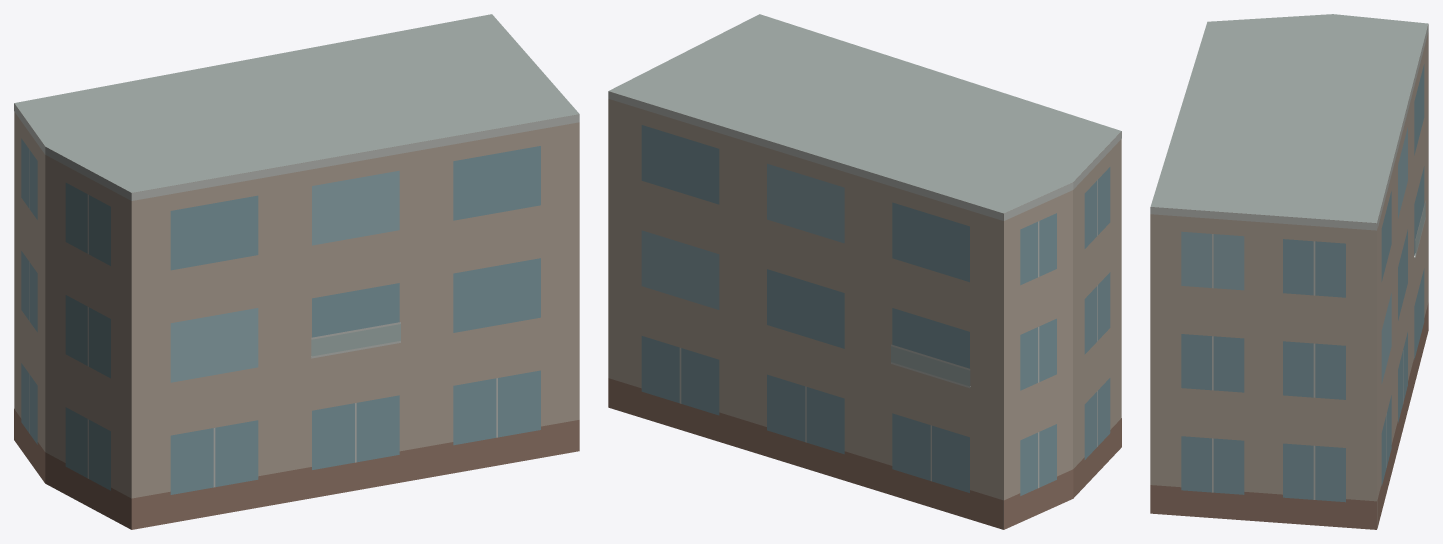
Rendered from survey-upis-32829495.glb.
3 renders of one model, left to right at view 1: azimuth 30°, elevation 25°; view 2: azimuth 150°, elevation 25°; view 3: azimuth 270°, elevation 25°, orthographic. The views are drawn at different scales.
Visible parts, largest first — view 1: survey-upis-32829495.tmp; view 2: survey-upis-32829495.tmp; view 3: survey-upis-32829495.tmp.
Part boxes in pixels (x1=…): survey-upis-32829495.tmp: x1=14, y1=14, x2=579, y2=529; survey-upis-32829495.tmp: x1=608, y1=14, x2=1121, y2=529; survey-upis-32829495.tmp: x1=1150, y1=14, x2=1428, y2=529.
Bounding box in the file's own units: 14.78 × 10.1 × 8.31.
